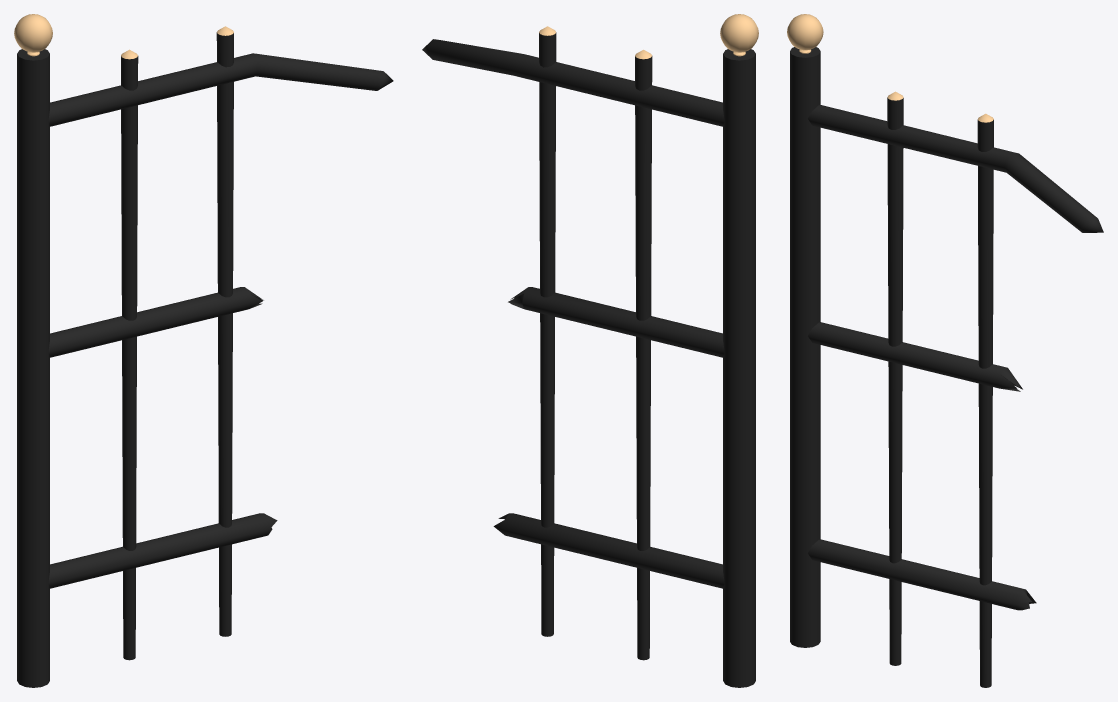
Rendered from Fence_broken.fbx.
3 views of the same model, side by side, from view 1: azimuth 30°, elevation 25°; view 2: azimuth 150°, elevation 25°; view 3: azimuth 330°, elevation 25° (orthographic). The views are drawn at different scales.
Visible parts, largest first — view 1: SM_Fence_broken; view 2: SM_Fence_broken; view 3: SM_Fence_broken.
Part boxes in pixels (<box>): SM_Fence_broken: <box>14,14,393,687</box>; SM_Fence_broken: <box>422,14,758,687</box>; SM_Fence_broken: <box>787,14,1103,687</box>.
Bounding box in the file's own units: 1854 × 328 × 3313.
